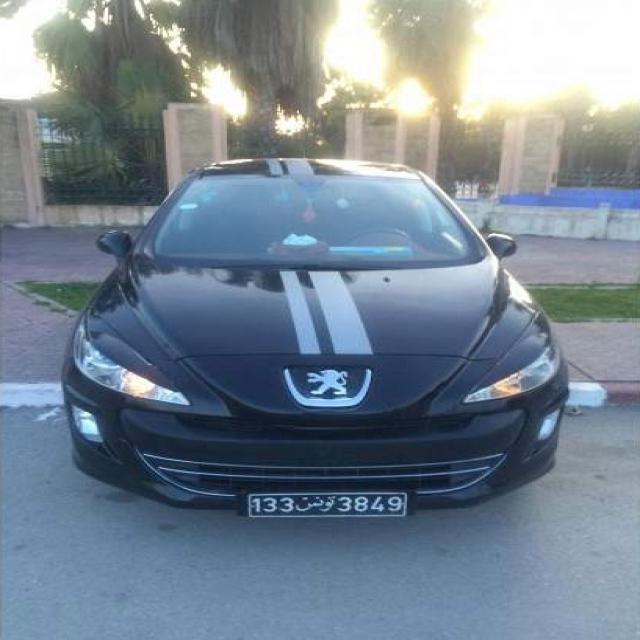licence plate: (251, 495, 404, 514)
